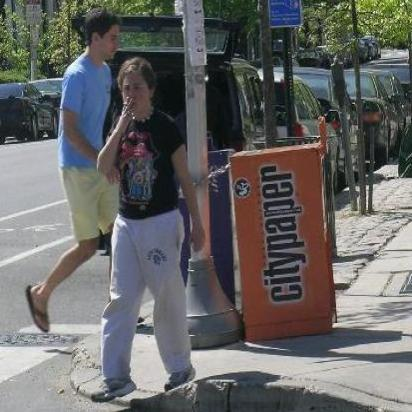ped: (94, 59, 205, 401), (26, 7, 119, 331)
